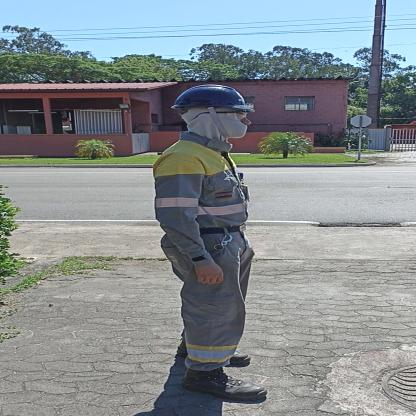Balaclava: (179, 108, 257, 140)
Capacete: (173, 80, 250, 108)
